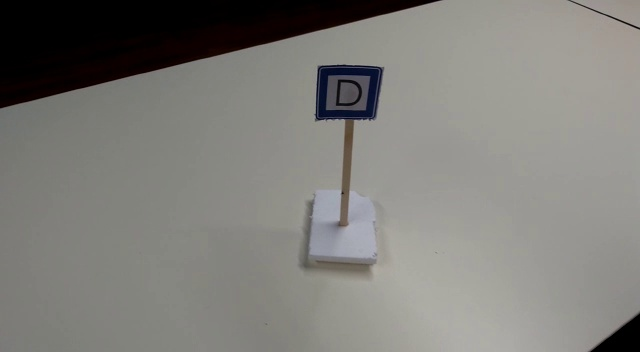durak: (313, 64, 384, 120)
